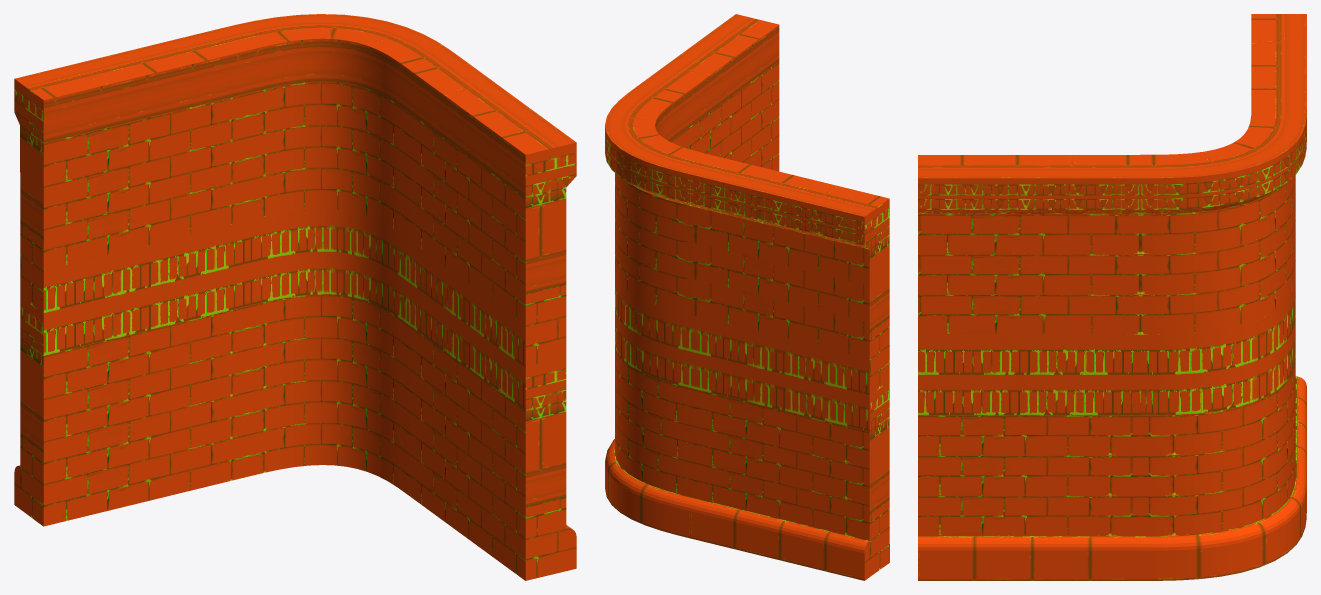
File: Outer_Wall_Corner_ UV Complete.fbx
The picture shows the model from 3 angles, left to right: view 1: azimuth 30°, elevation 25°; view 2: azimuth 150°, elevation 25°; view 3: azimuth 270°, elevation 25°; orthographic projection. The views are drawn at different scales.
Parts seen in each view (by area): view 1: Wall_0022; view 2: Wall_0022; view 3: Wall_0022.
Boxes of the visible parts, left/top/right/bottom form: Wall_0022: left=14, top=14, right=576, bottom=580; Wall_0022: left=605, top=14, right=889, bottom=580; Wall_0022: left=918, top=14, right=1306, bottom=580.
Bounding box in the file's own units: 350 × 400 × 350.
